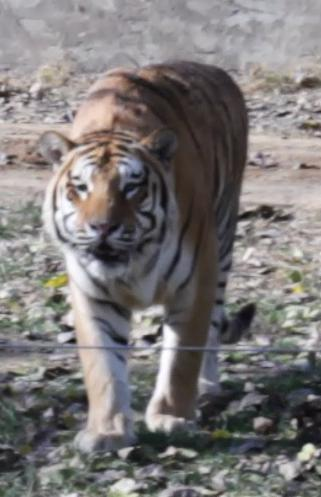tiger: (39, 61, 253, 450)
